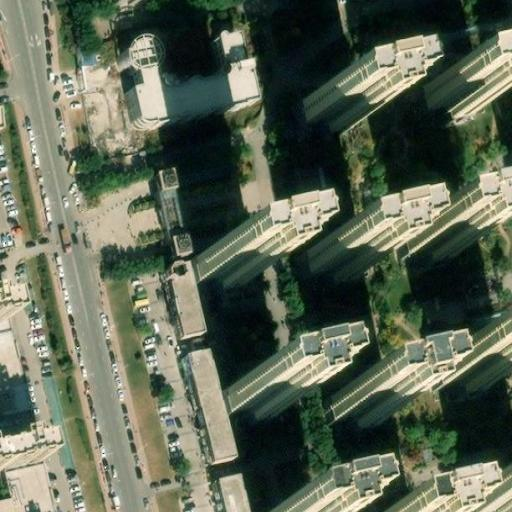building: (121, 33, 252, 124), (186, 345, 242, 464), (0, 323, 40, 463), (202, 252, 275, 305), (427, 83, 498, 132), (412, 227, 480, 275), (445, 359, 512, 407), (314, 250, 382, 297), (309, 100, 375, 148), (229, 375, 293, 424), (366, 394, 430, 440), (169, 262, 208, 335), (0, 442, 57, 478), (0, 301, 20, 326), (0, 270, 9, 305)
